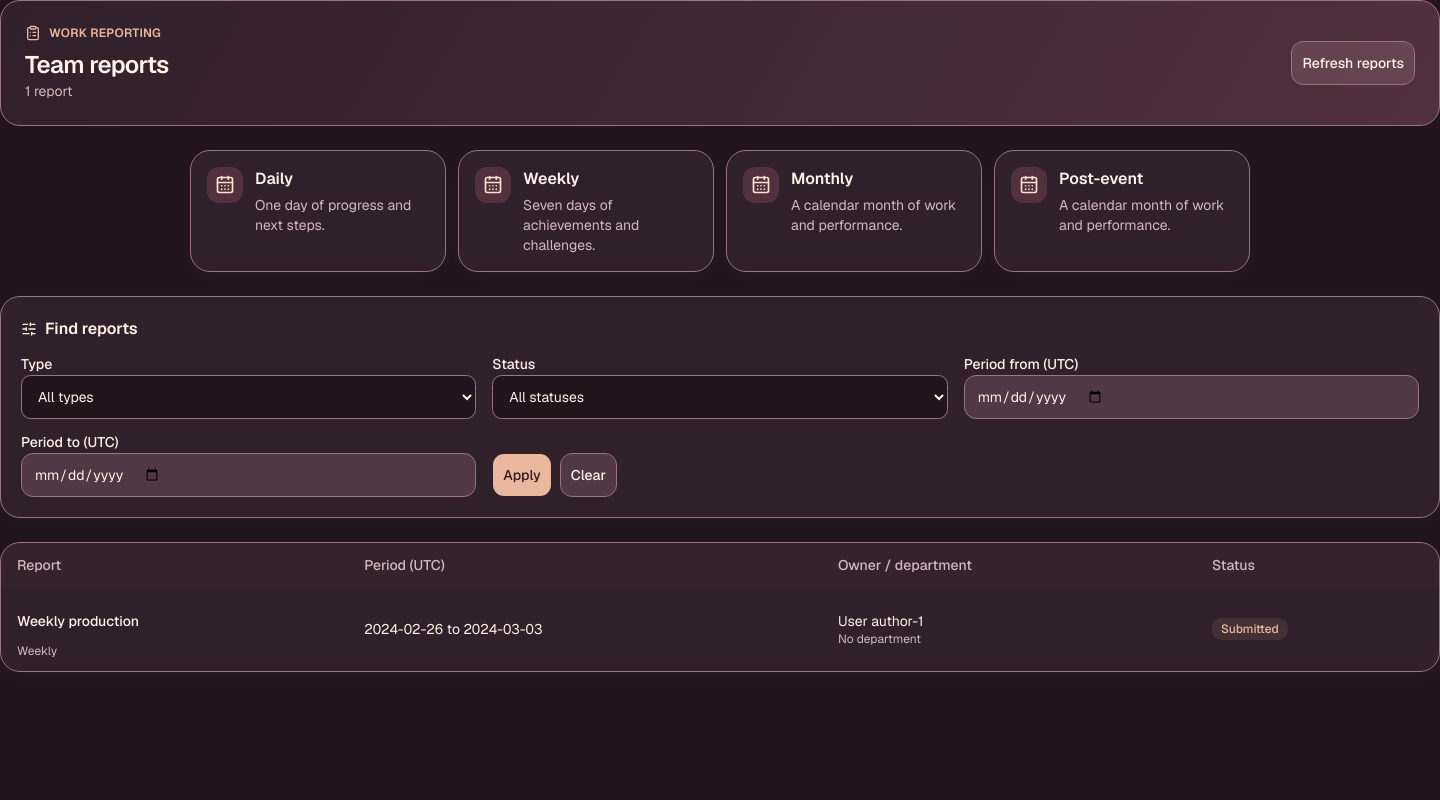
Scenario: ReportsManager › reviews only with a review grant and reconciles the list and detail
Expected: the text "1 report" is shown, [25,82,72,100]
Click the button "Weekly production". click: [78, 621]
box: [17,599,139,643]
(page scrolled)
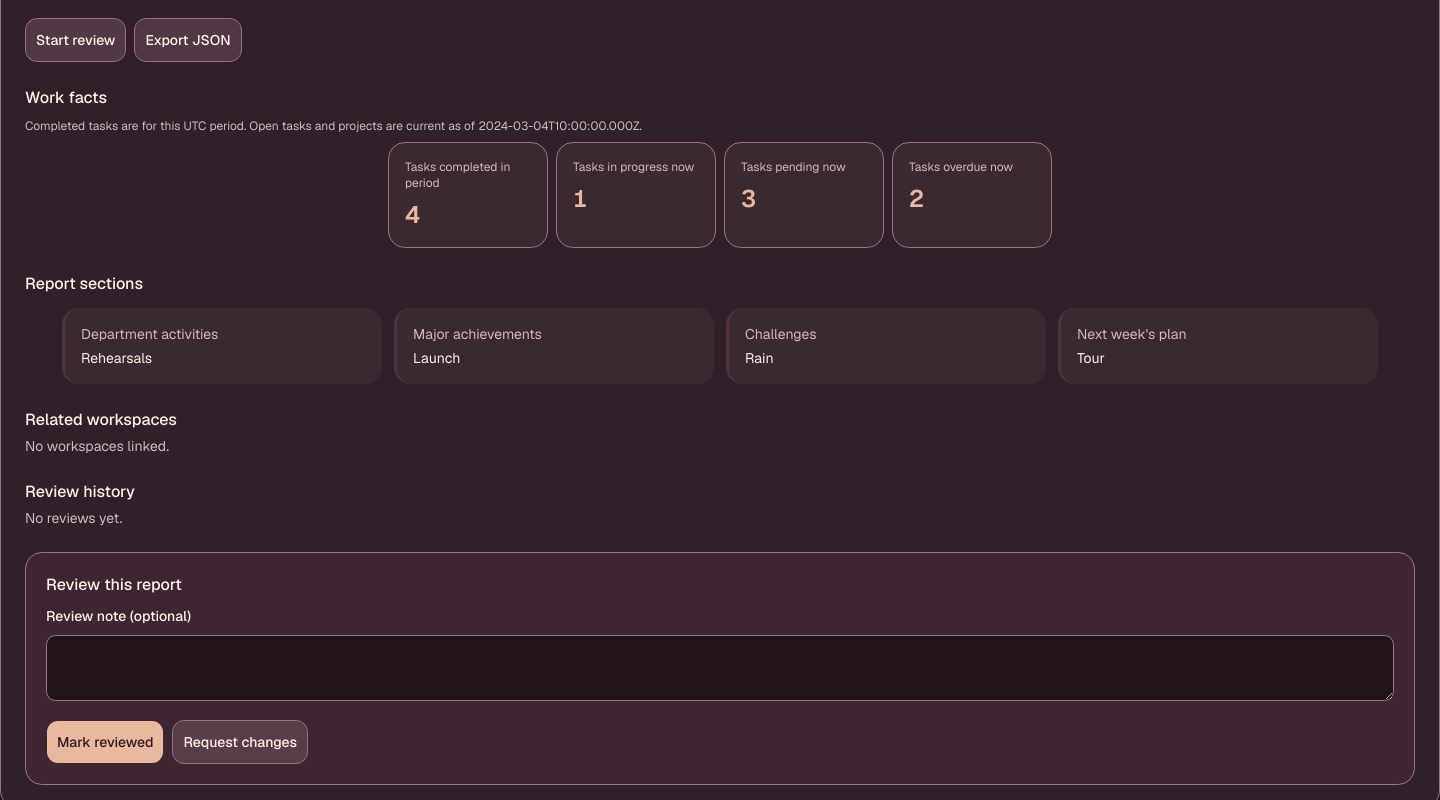
Now the button "Mark reviewed" is shown
Click the button "Mark reviewed". click: [105, 742]
box: [46,720,164,764]
(page scrolled)
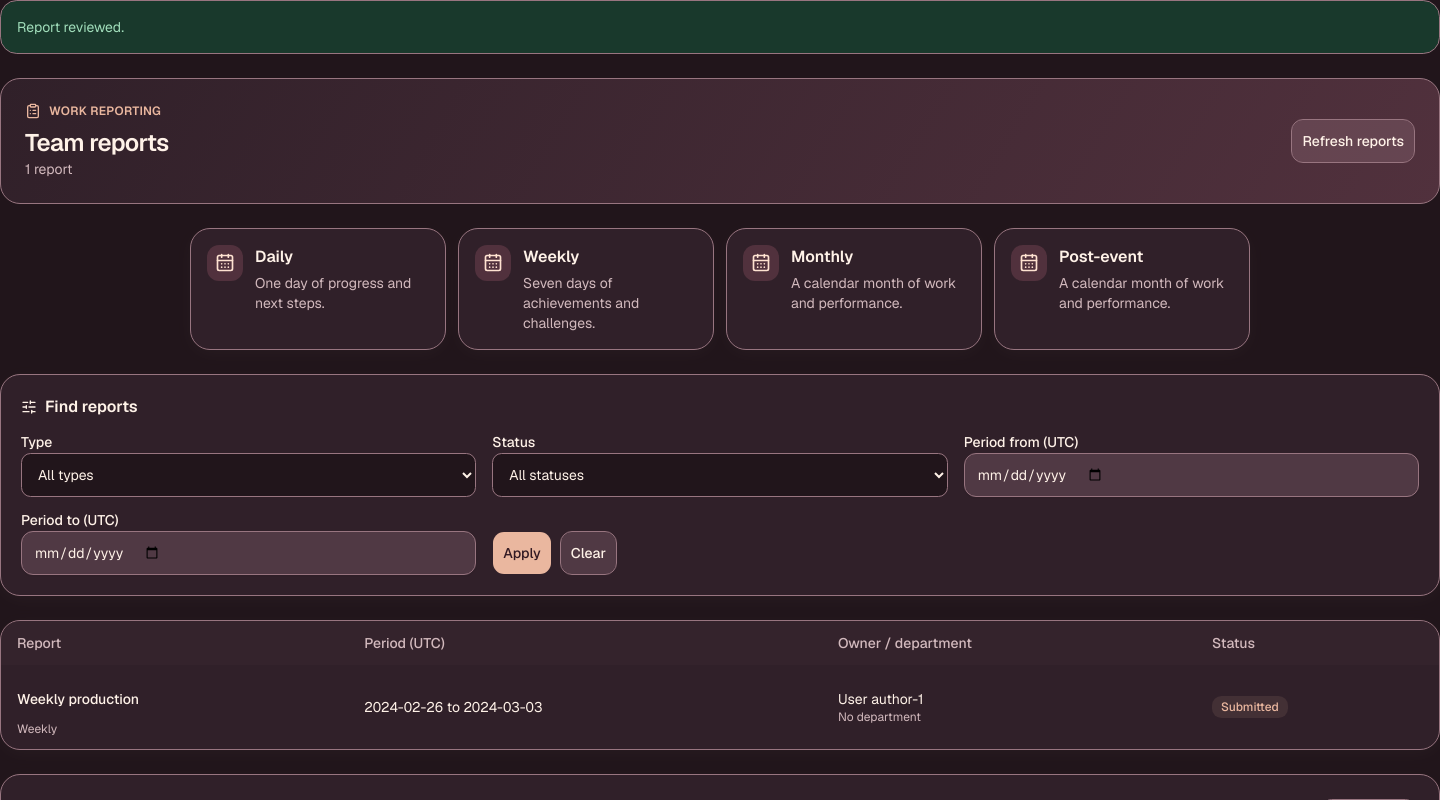
Now the message shows "Report reviewed", box [17,18,124,36]
